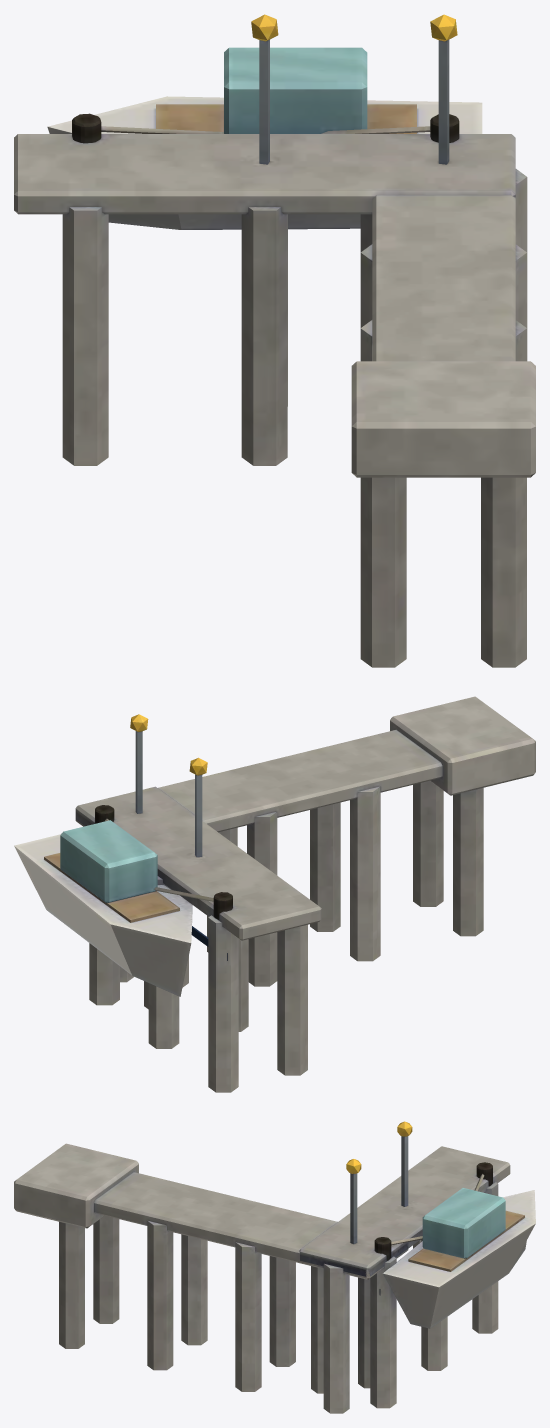
Rendered from harbor-pier-25.glb.
The picture shows the model from 3 angles, top to bottom: view 1: azimuth 30°, elevation 25°; view 2: azimuth 150°, elevation 25°; view 3: azimuth 270°, elevation 25°; orthographic projection. The views are drawn at different scales.
Parts seen in each view (by area): view 1: harbor-pier-25; view 2: harbor-pier-25; view 3: harbor-pier-25.
Boxes of the visible parts, box(x1,y1,x2,y2) form: harbor-pier-25: box(14, 14, 535, 667); harbor-pier-25: box(14, 696, 535, 1092); harbor-pier-25: box(14, 1121, 535, 1413).
Size of the model in its own units: 1.05 by 0.9 by 1.79.
1 material, 1 textured.
